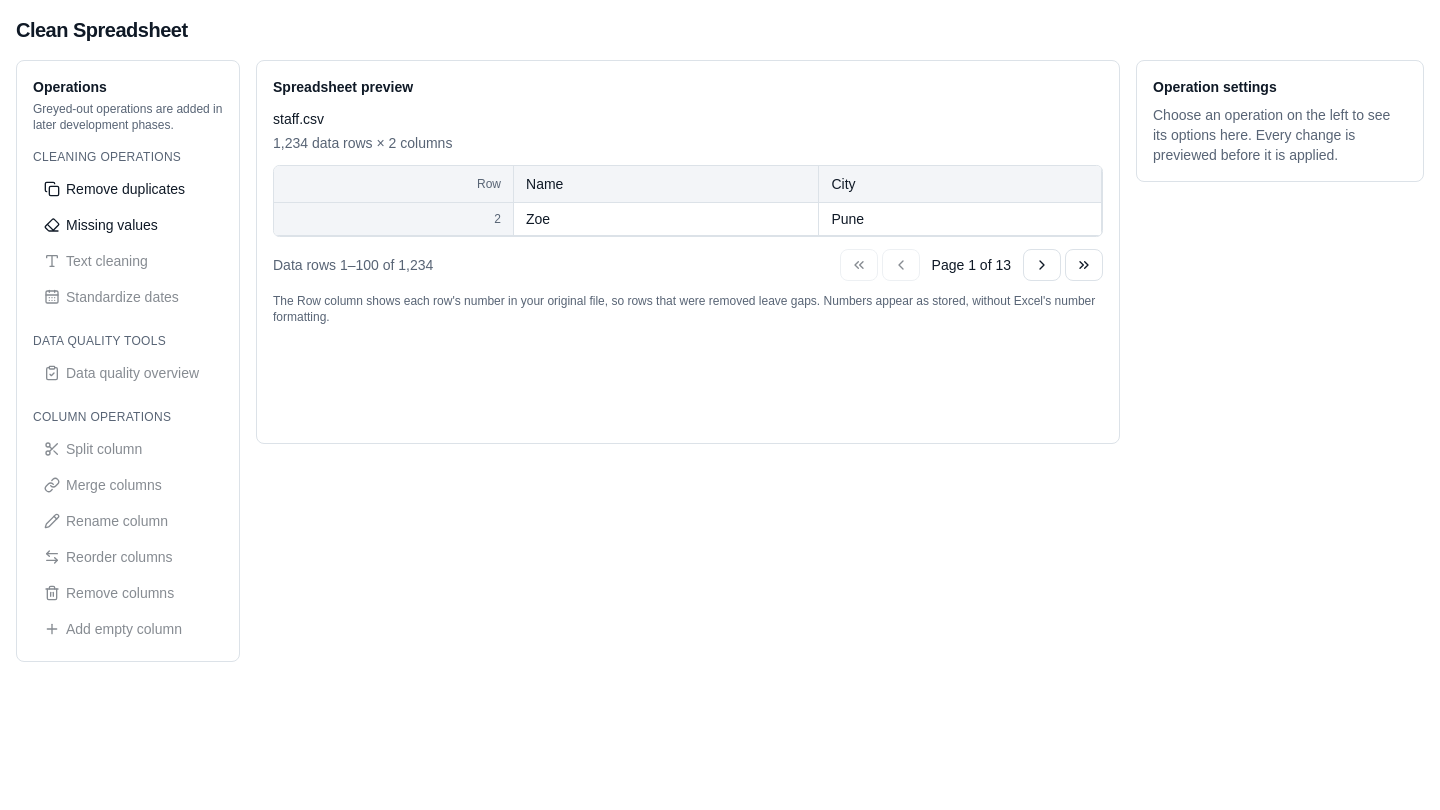
Test: CleanSpreadsheetPage › asks for the next 100 rows when the next page is chosen
Expected: the text "Zoe" is shown, [514,203,819,236]
Step 1. Click the button named "Next page" → (1042, 265), box [1023,249,1061,281]
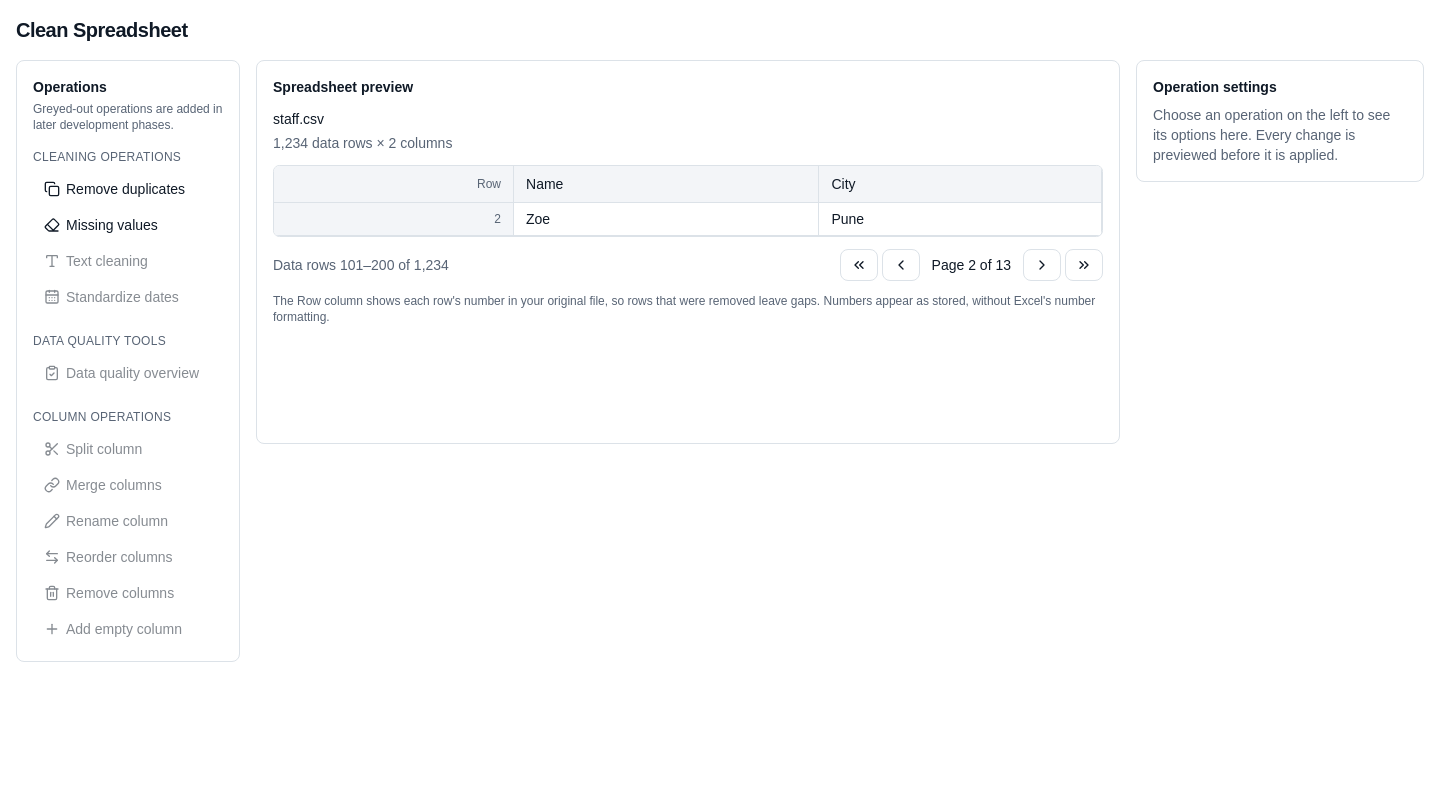
Result: the text "Page 2 of 13" is shown at [932,257,1011,273]
